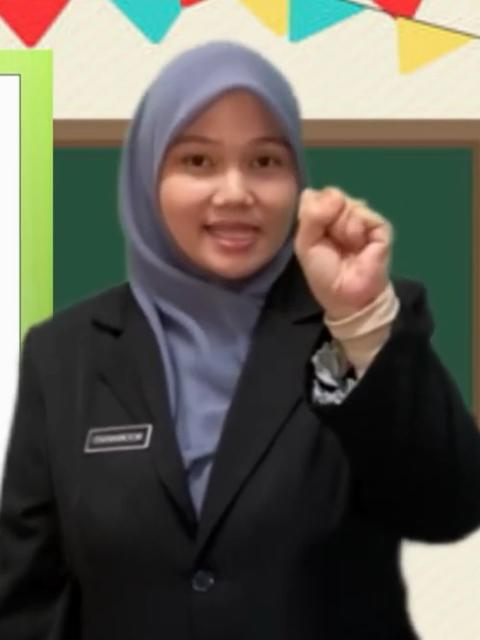S: (290, 184, 400, 314)
